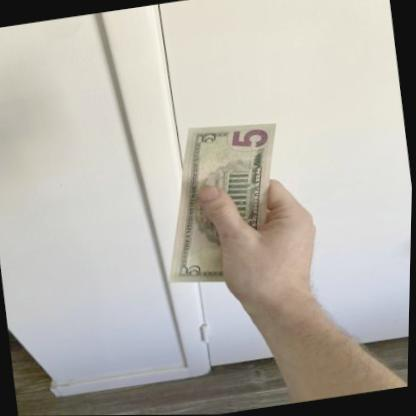five-back: (169, 124, 276, 283)
